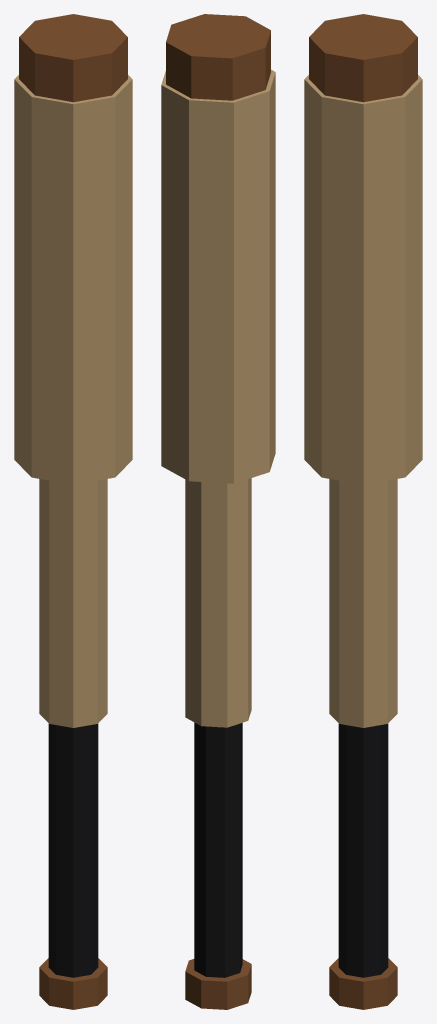
File: Weapon_BaseballBat.obj
3 renders of one model, left to right at view 1: azimuth 90°, elevation 25°; view 2: azimuth 150°, elevation 25°; view 3: azimuth 270°, elevation 25°, orthographic.
Visible parts, largest first — view 1: SweetSpot, TaperShaft, TapedGrip, BatCap, HandleKnob; view 2: SweetSpot, TaperShaft, TapedGrip, BatCap, HandleKnob; view 3: SweetSpot, TaperShaft, TapedGrip, BatCap, HandleKnob.
Boxes of the visible parts, left/top/right/bottom form: SweetSpot: left=14, top=75, right=132, bottom=484; TaperShaft: left=39, top=479, right=107, bottom=727; TapedGrip: left=48, top=723, right=98, bottom=977; BatCap: left=19, top=14, right=127, bottom=102; HandleKnob: left=39, top=958, right=107, bottom=1009; SweetSpot: left=161, top=69, right=275, bottom=483; TaperShaft: left=185, top=478, right=251, bottom=727; TapedGrip: left=194, top=722, right=242, bottom=977; BatCap: left=166, top=14, right=270, bottom=100; HandleKnob: left=185, top=959, right=251, bottom=1009; SweetSpot: left=304, top=75, right=422, bottom=484; TaperShaft: left=329, top=479, right=397, bottom=727; TapedGrip: left=338, top=723, right=388, bottom=977; BatCap: left=309, top=14, right=417, bottom=102; HandleKnob: left=329, top=958, right=397, bottom=1009.
Size of the model in its own units: 0.076 by 0.68 by 0.076.
